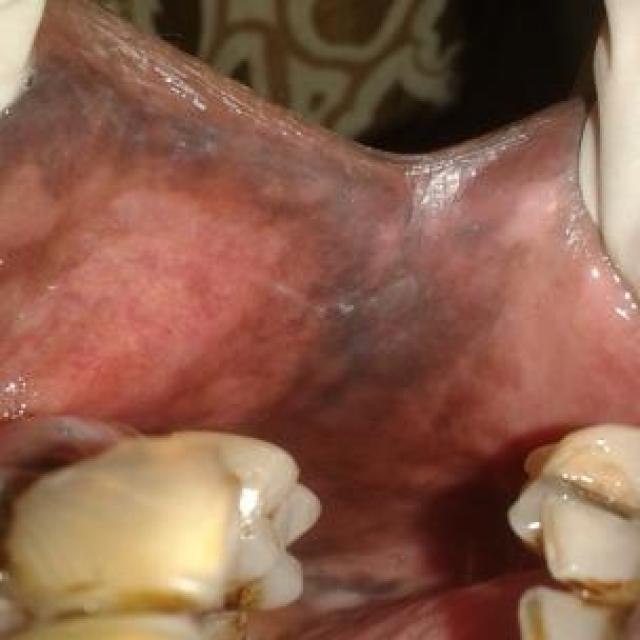leukoplakia-detection: (0, 69, 528, 420), (298, 527, 497, 638), (31, 411, 153, 455)
processing_area: (1, 1, 638, 638)
